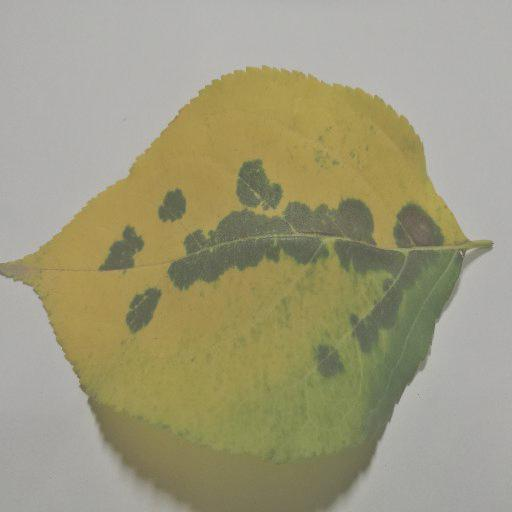Brown_Spot: (292, 192, 391, 244), (388, 201, 445, 251)
